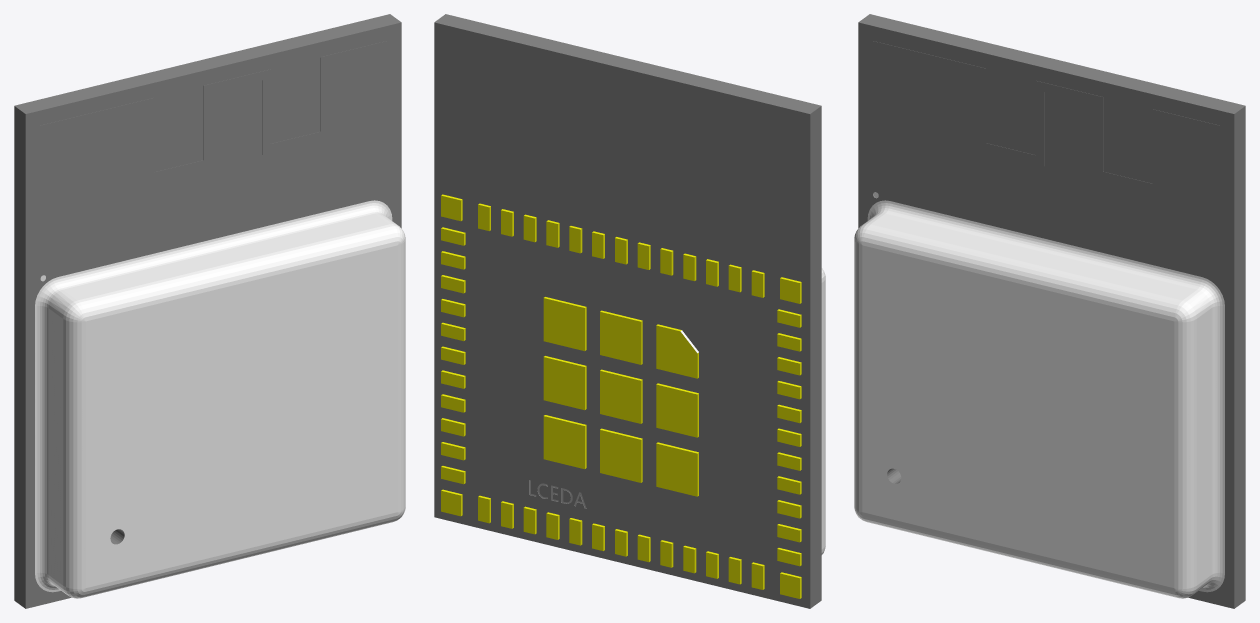
Rendered from esp32c3_real.glb.
3 renders of one model, left to right at view 1: azimuth 30°, elevation 25°; view 2: azimuth 150°, elevation 25°; view 3: azimuth 330°, elevation 25°, orthographic.
Visible parts, largest first — view 1: Node; view 2: Node; view 3: Node.
Boxes of the visible parts, bbox=[...] form: Node: bbox=[14, 14, 405, 608]; Node: bbox=[434, 14, 825, 608]; Node: bbox=[854, 14, 1245, 608].
Size of the model in its own units: 13.2 by 16.6 by 2.5.
